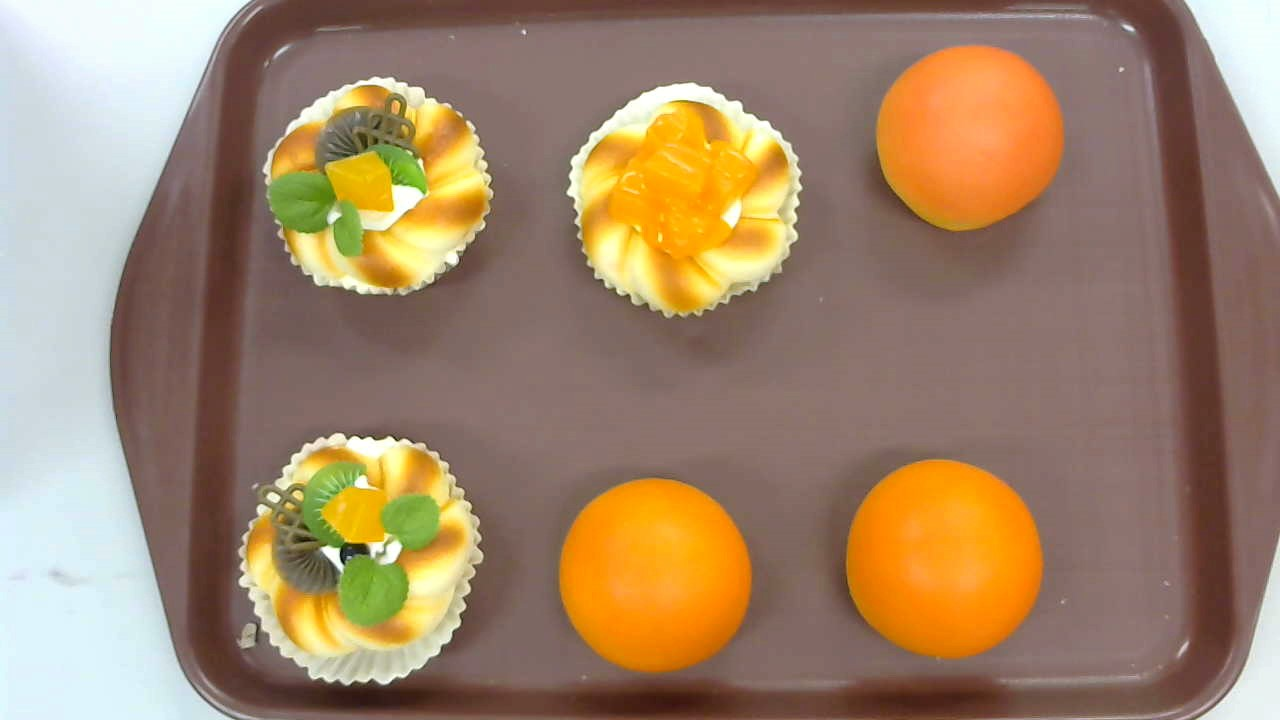bun: (844, 458, 1043, 659), (558, 476, 753, 673), (873, 45, 1066, 232)
fruit tart: (238, 431, 485, 684), (262, 76, 494, 297)
mango tart: (566, 82, 803, 320)
